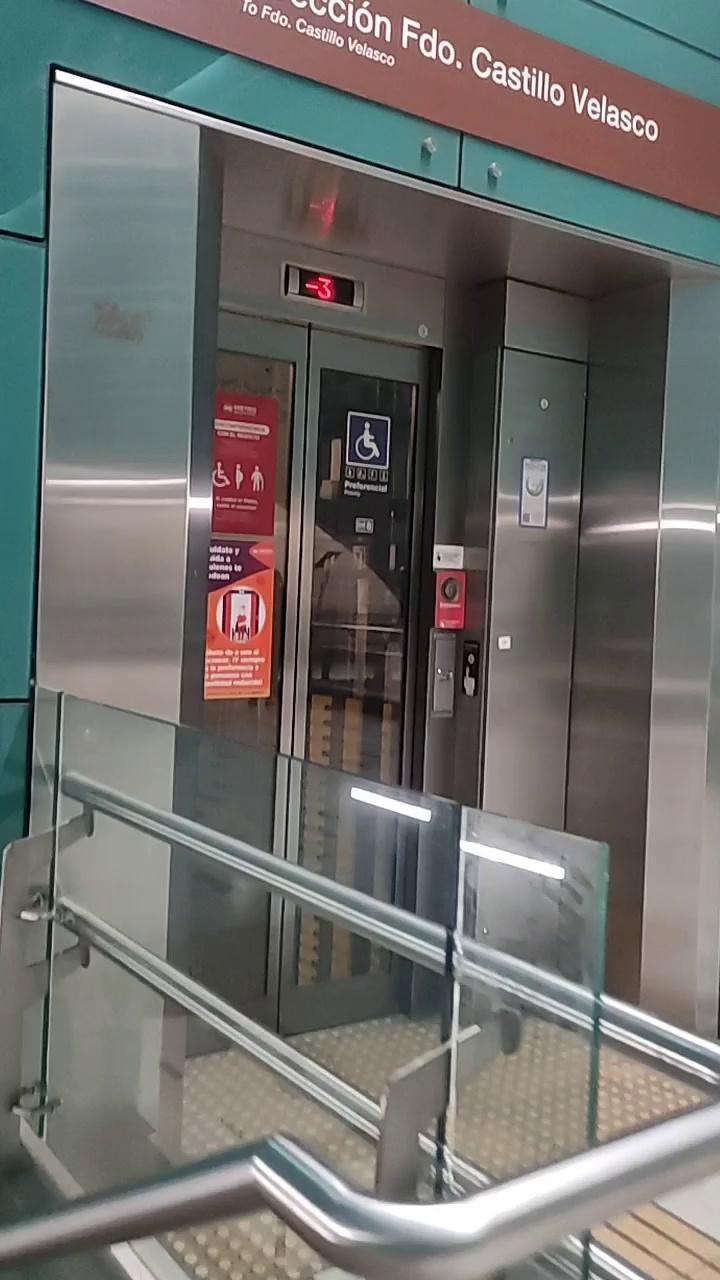handicapped symbol: (344, 413, 388, 485)
